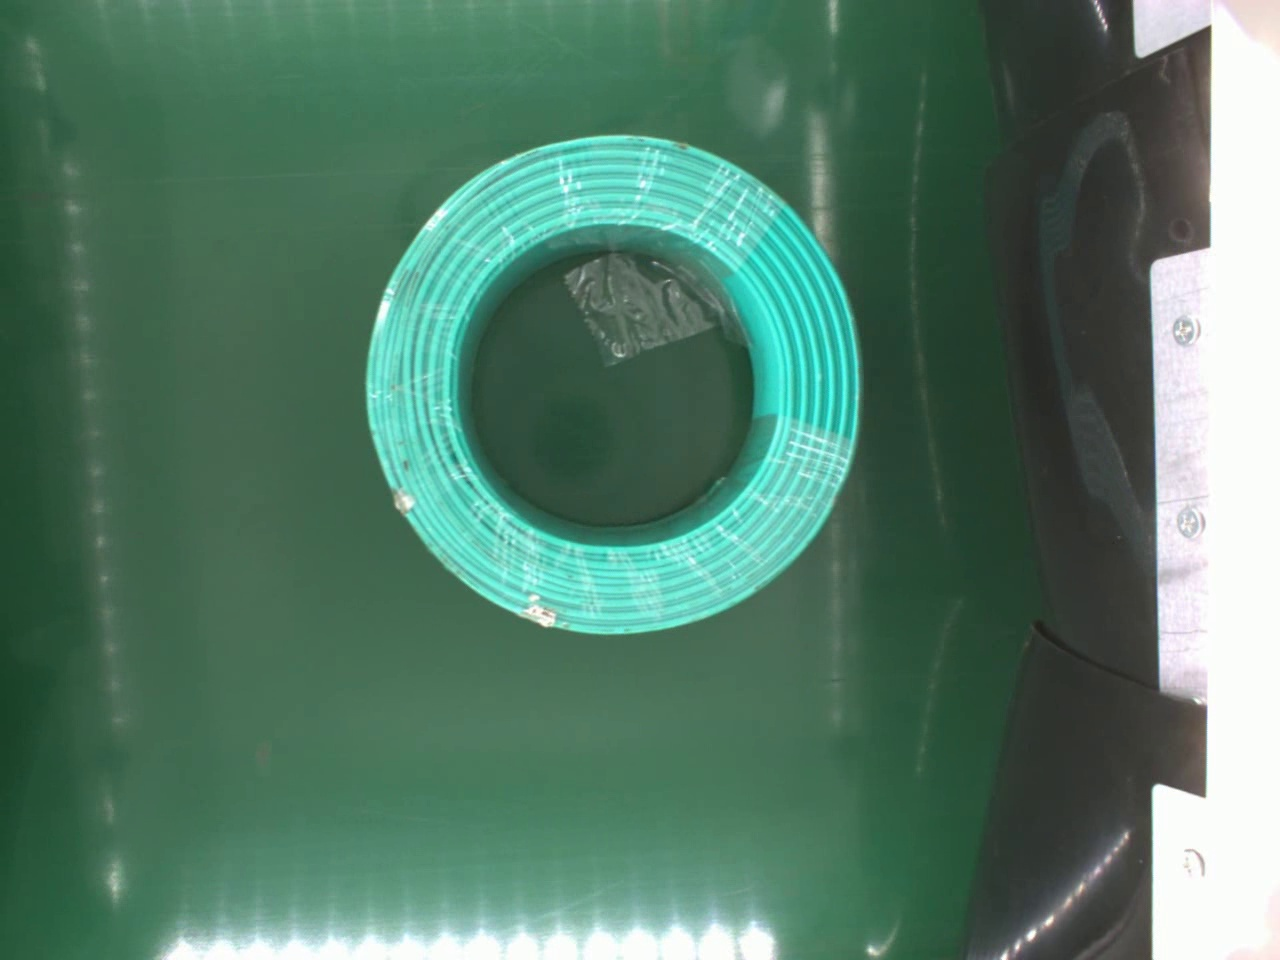green: (356, 128, 867, 636)
